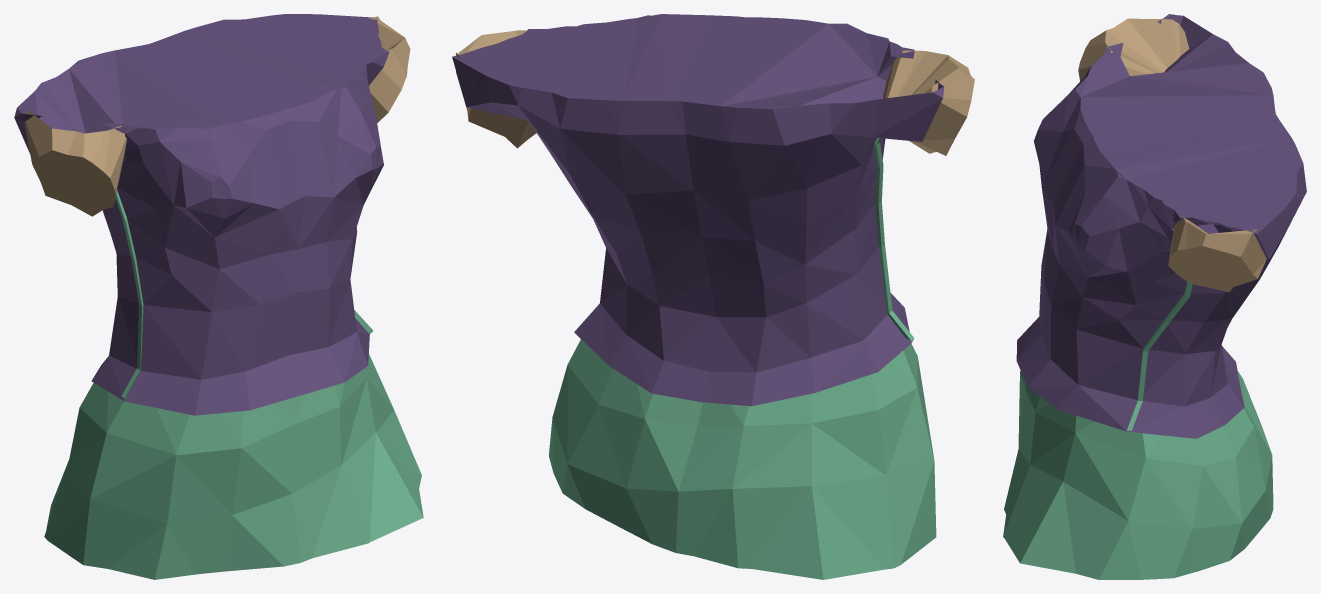
Rendered from Thief_WaistandTorso.fbx.
3 renders of one model, left to right at view 1: azimuth 30°, elevation 25°; view 2: azimuth 150°, elevation 25°; view 3: azimuth 270°, elevation 25°, orthographic. The views are drawn at different scales.
Parts seen in each view (by area): view 1: T_Torso; view 2: T_Torso; view 3: T_Torso.
Part boxes in pixels (x1,y1,x2,y2): T_Torso: (14,14,423,579); T_Torso: (452,14,974,579); T_Torso: (1003,14,1306,579).
Size of the model in its own units: 45.99 by 46.76 by 31.04.
